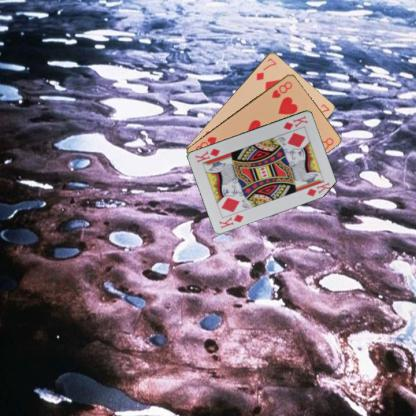7d: (254, 56, 277, 82)
8h: (269, 78, 294, 100)
Kd: (280, 113, 310, 131), (217, 211, 245, 230)
